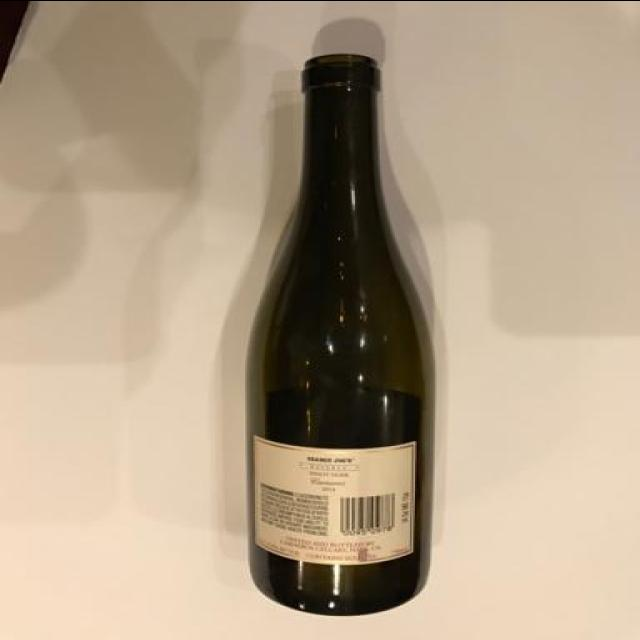Glass Bottle: (244, 50, 428, 614)
